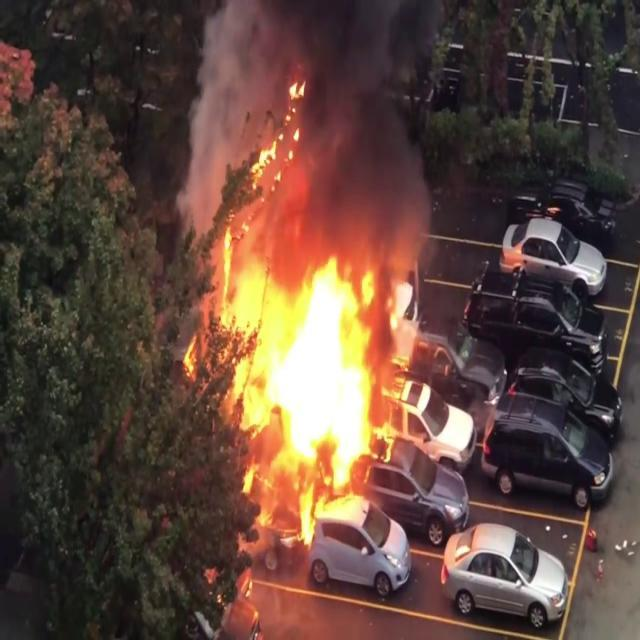Fire: (194, 95, 398, 526)
Smoke: (182, 0, 445, 261)
